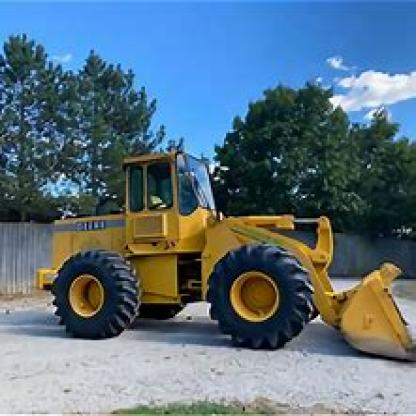bull_dozer/loader/grader: (30, 142, 414, 366)
